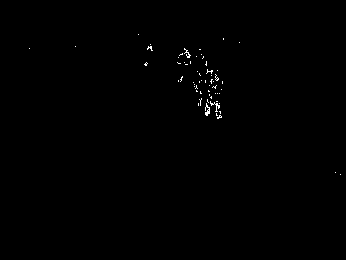person: (194, 62, 225, 119)
